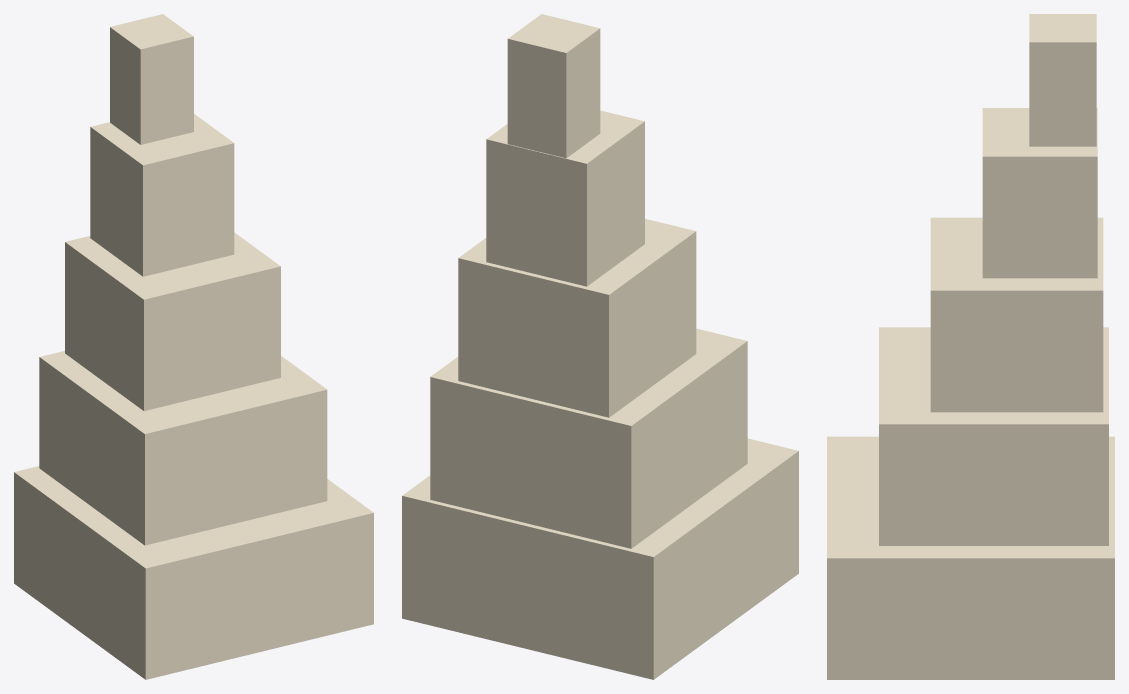
Rendered from chifre_unico.glb.
3 views of the same model, side by side, from view 1: azimuth 30°, elevation 25°; view 2: azimuth 150°, elevation 25°; view 3: azimuth 270°, elevation 25° (orthographic). The views are drawn at different scales.
Visible parts, largest first — view 1: chifre_unico; view 2: chifre_unico; view 3: chifre_unico.
Part boxes in pixels (x1,y1,x2,y2): chifre_unico: (14,14,373,679); chifre_unico: (402,14,798,679); chifre_unico: (827,14,1114,679).
Size of the model in its own units: 0.15 by 0.34 by 0.15.
